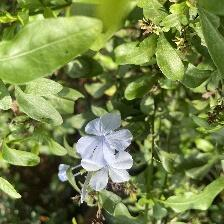chitrak: (84, 109, 130, 165), (87, 152, 135, 190)
